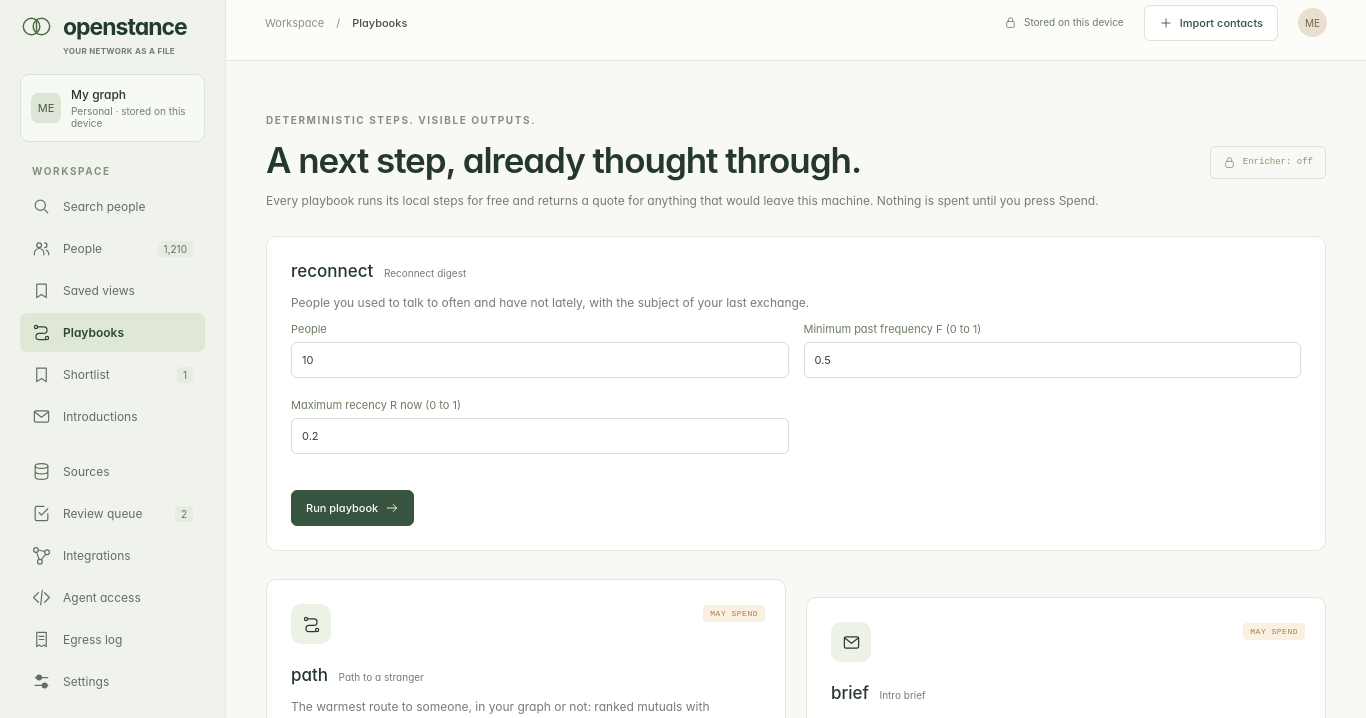
Scenario: playbook results, human-first (U4) › reconnect: a table of people with was/now scores and the last exchange
The image size is (1366, 718).
Click the button "Run playbook" at (353, 508), box [291, 490, 414, 526]
(page scrolled)
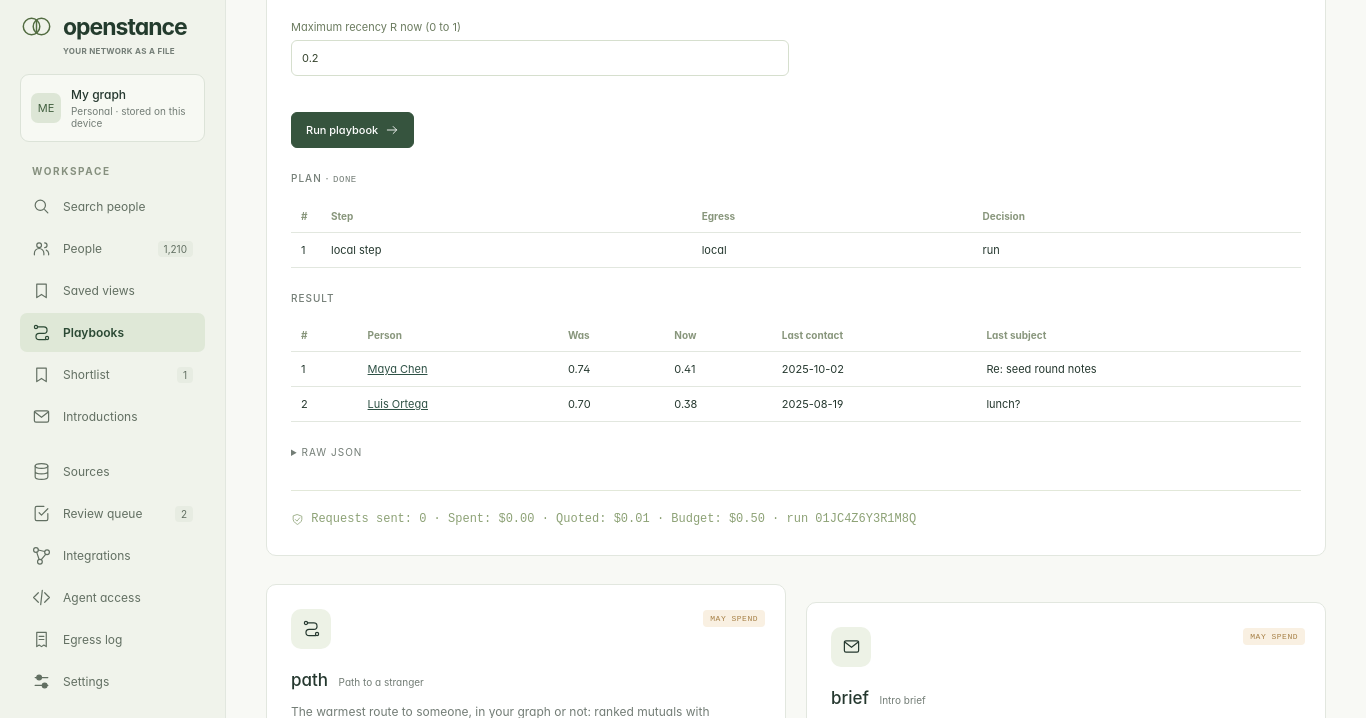
Now the text "Requests sent: 0" is shown, box [291, 490, 1301, 531]
Now the row "1 Maya Chen 0.74 0.41 2025-10-02 Re: seed round notes" is shown, box [291, 352, 1301, 387]
